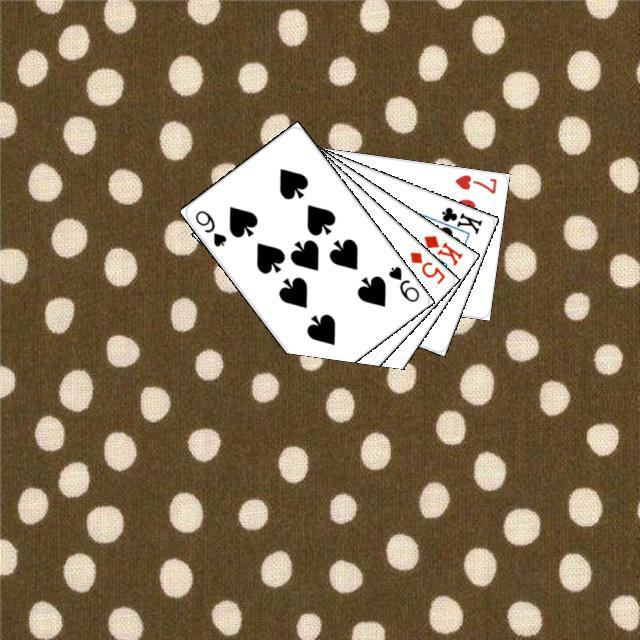5d: (405, 247, 447, 286)
7h: (450, 170, 498, 196)
9s: (383, 261, 421, 304), (190, 205, 228, 248)
Kc: (429, 202, 484, 237)
Kd: (419, 230, 465, 268)
